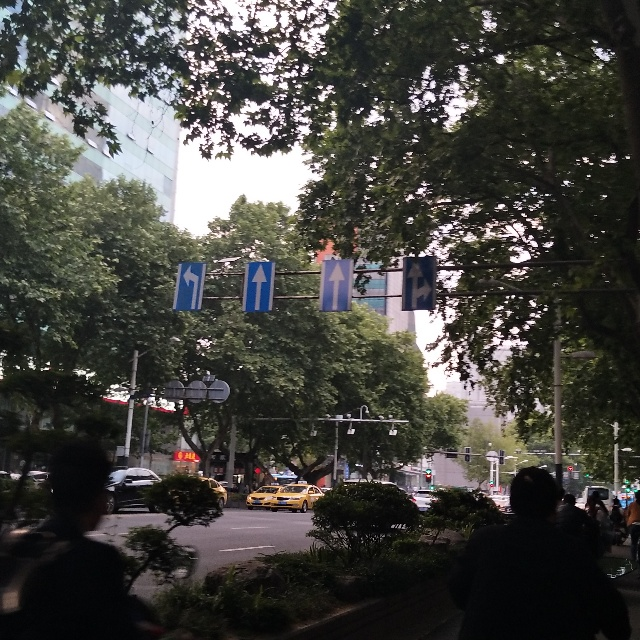left: (178, 261, 202, 311)
straight: (324, 259, 350, 312), (247, 261, 272, 313)
